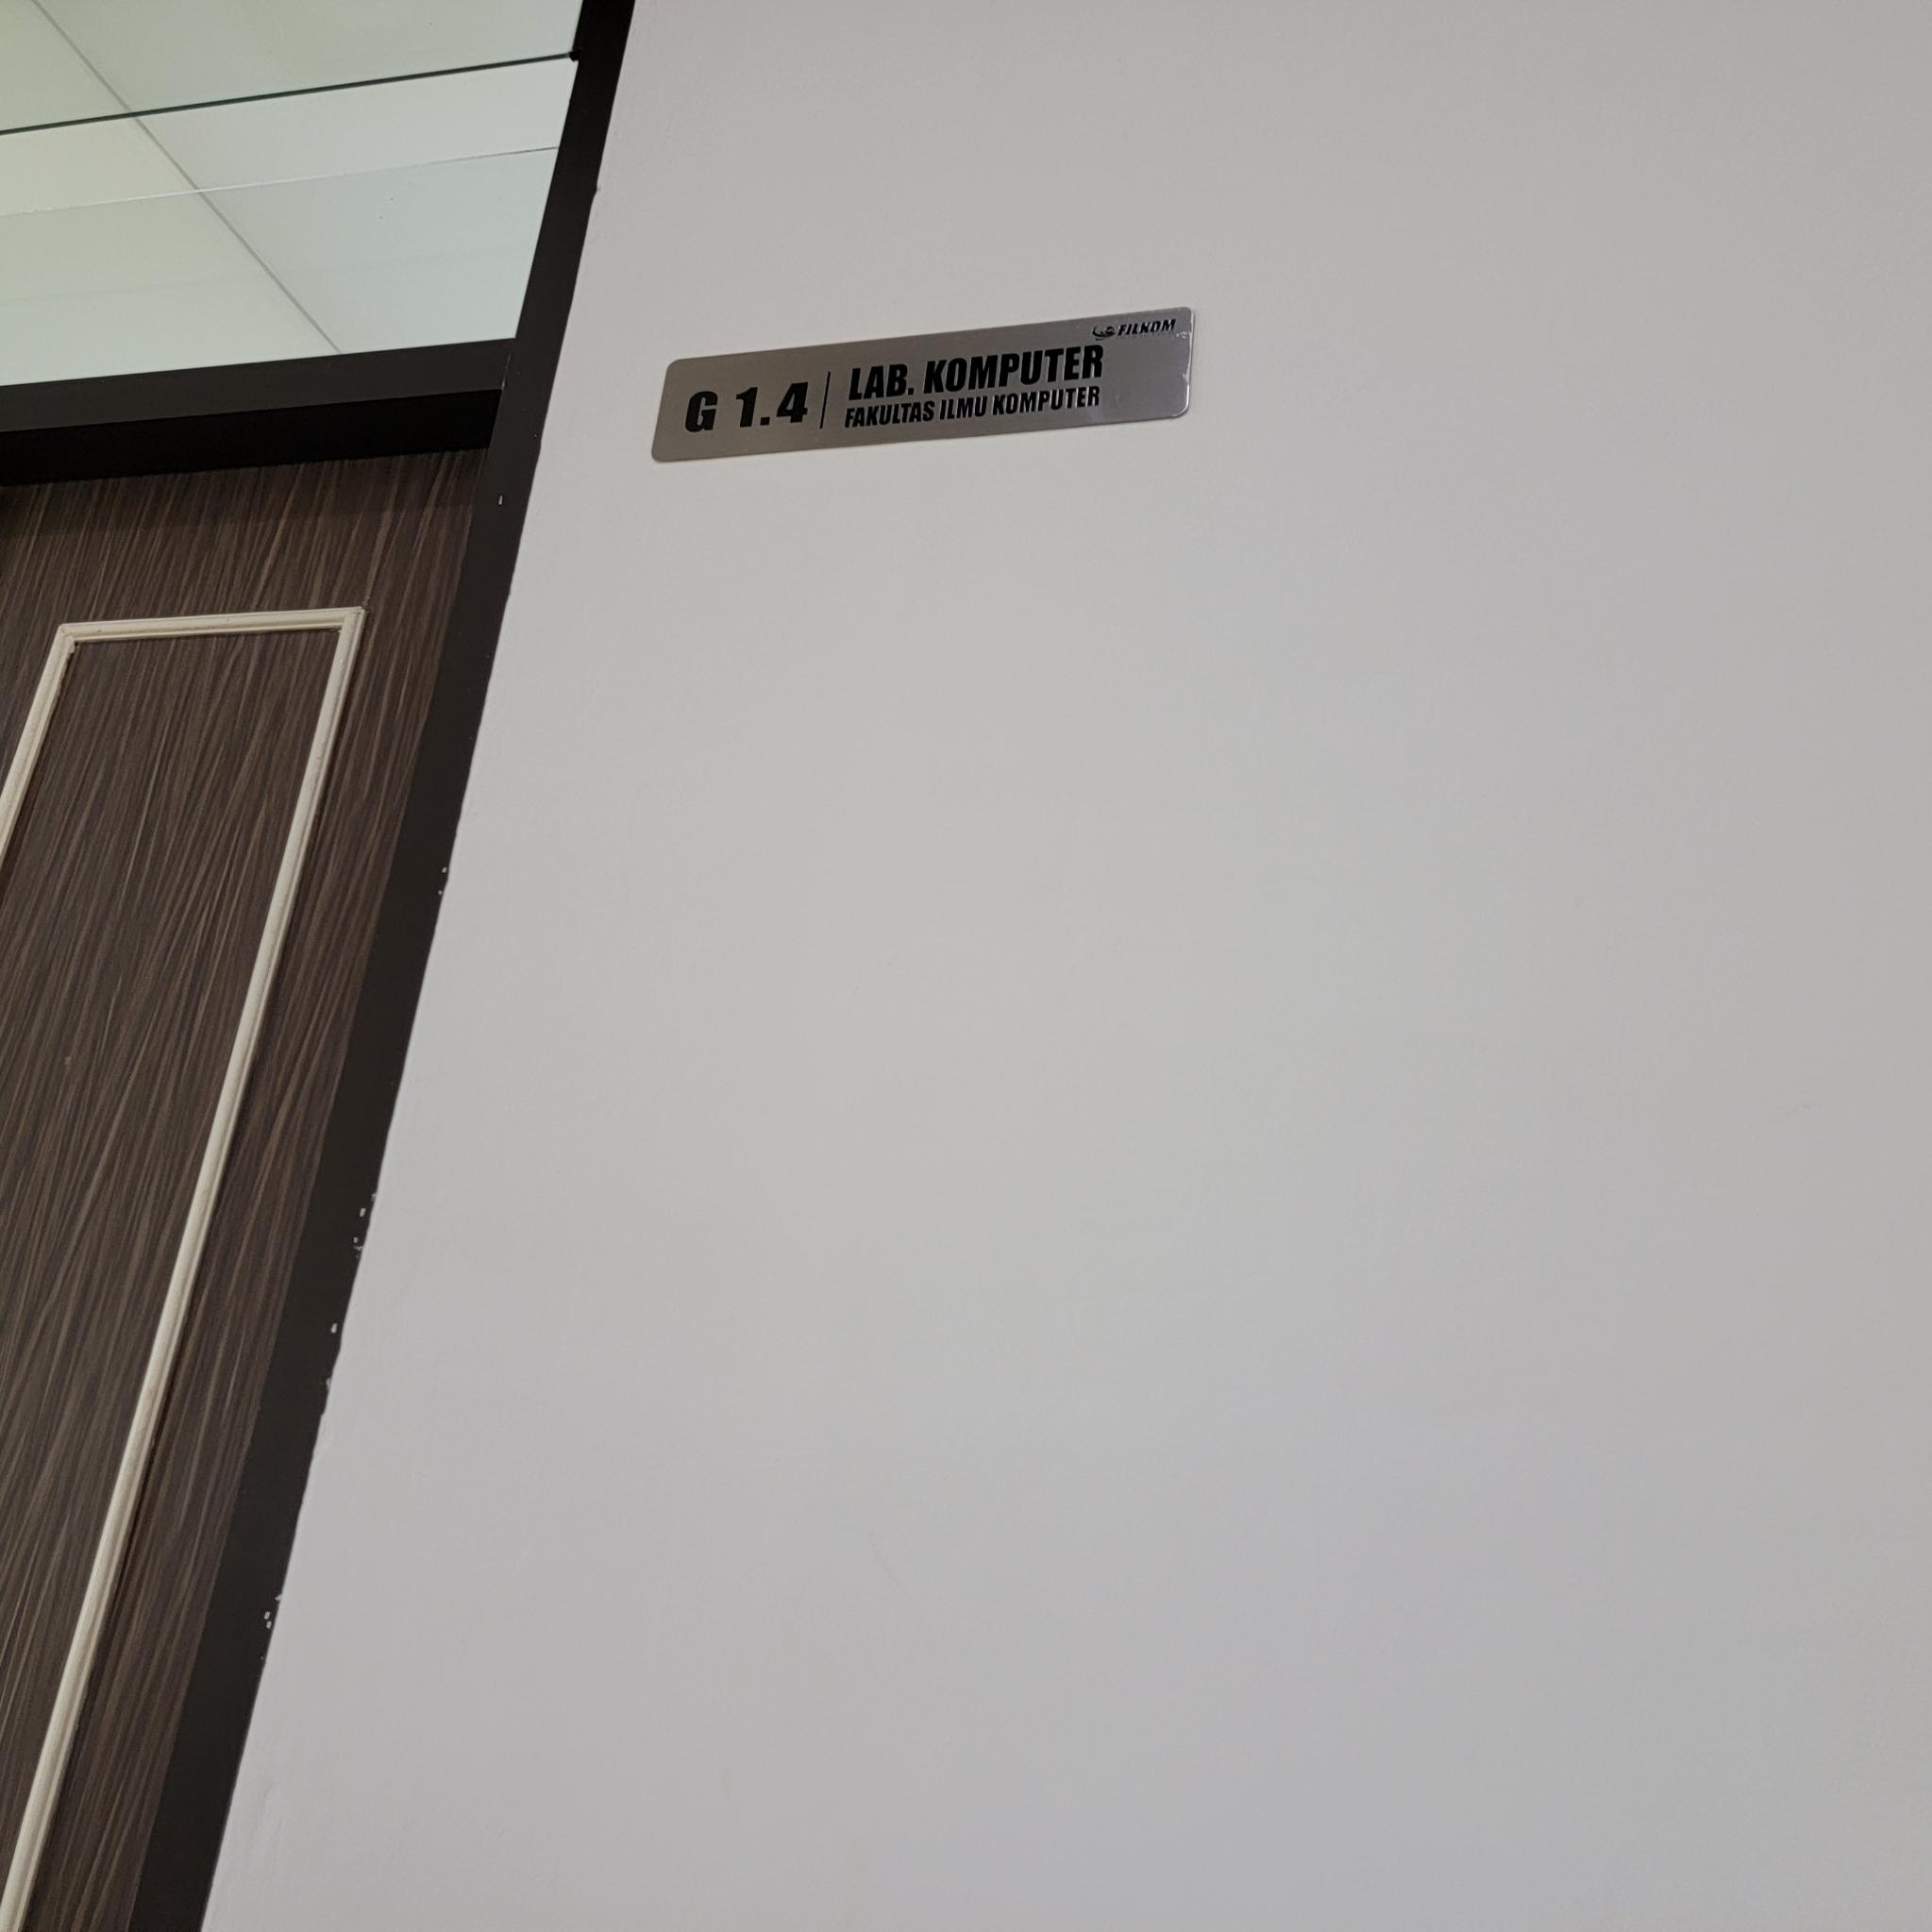plate: (653, 304, 1196, 465)
